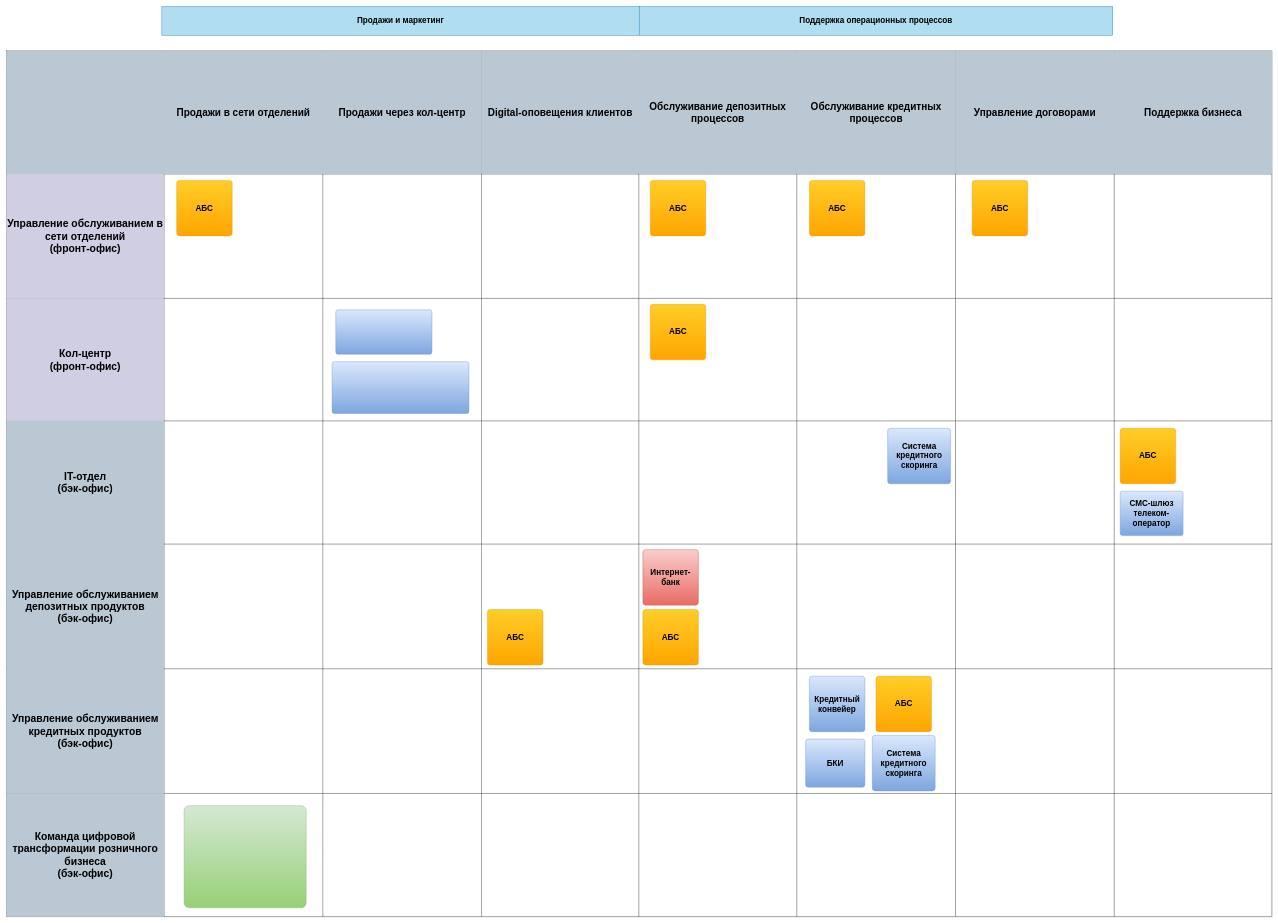
This 1278x923 diagram has some shape labels left out. The shapes that lost their labels are listed below. From the top down, each one's centre as x and y in pixels, then its label:
At pixel 383 332: "Система кол-центра (подрядчик)".
At pixel 400 387: "Система партнёрского кол-центра".
At pixel 245 856: "Сайт".
